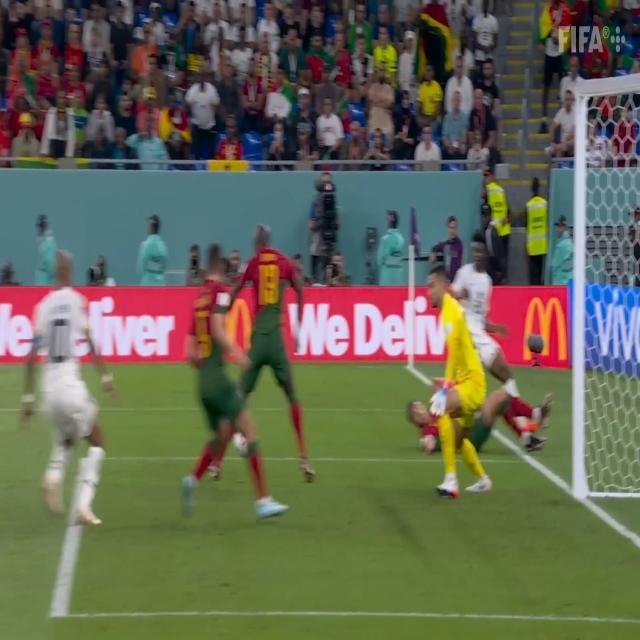football: (235, 433, 266, 452)
